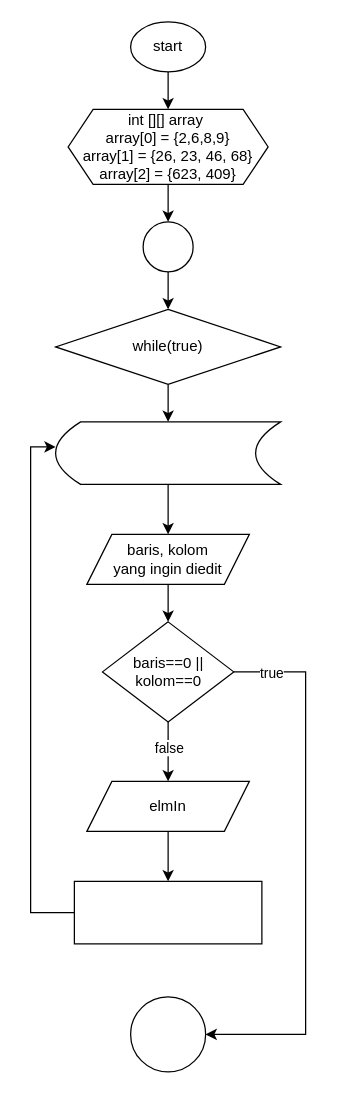
Some shapes in this 338 by 1094 pixel diagram are drawn without their labels. Each missing label, with the box of its shape:
array[brsIn][klmIn]==elmIn: (73, 880, 262, 944)
end: (129, 996, 206, 1072)
print baris, kolom, nilai: (54, 421, 281, 484)
